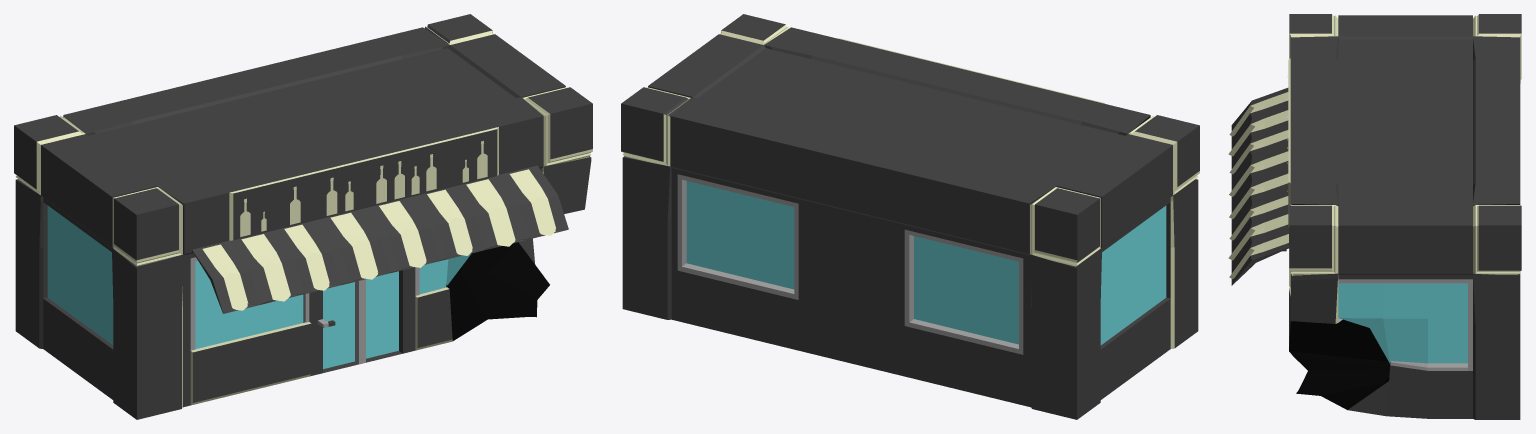
Rendered from Licoreria_05.fbx.
The picture shows the model from 3 angles, left to right: view 1: azimuth 30°, elevation 25°; view 2: azimuth 150°, elevation 25°; view 3: azimuth 270°, elevation 25°; orthographic projection. The views are drawn at different scales.
Visible parts, largest first — view 1: Licoreria_1; view 2: Licoreria_1; view 3: Licoreria_1.
Part boxes in pixels (x1,y1,x2,y2): Licoreria_1: [14, 14, 592, 419]; Licoreria_1: [621, 14, 1199, 419]; Licoreria_1: [1228, 14, 1521, 419].
Bounding box in the file's own units: 2275 × 987 × 1335.
